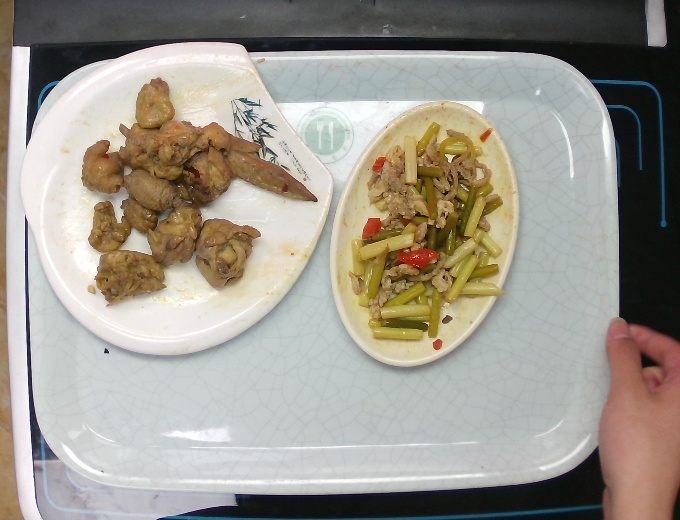JYsf-Mian_Pan: (13, 40, 341, 357)
JYsf-Tuo_Yuan_Wan: (325, 95, 530, 370)
